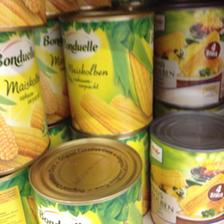Mais: (57, 10, 152, 136), (27, 133, 141, 223), (150, 110, 223, 222), (151, 4, 219, 110)
